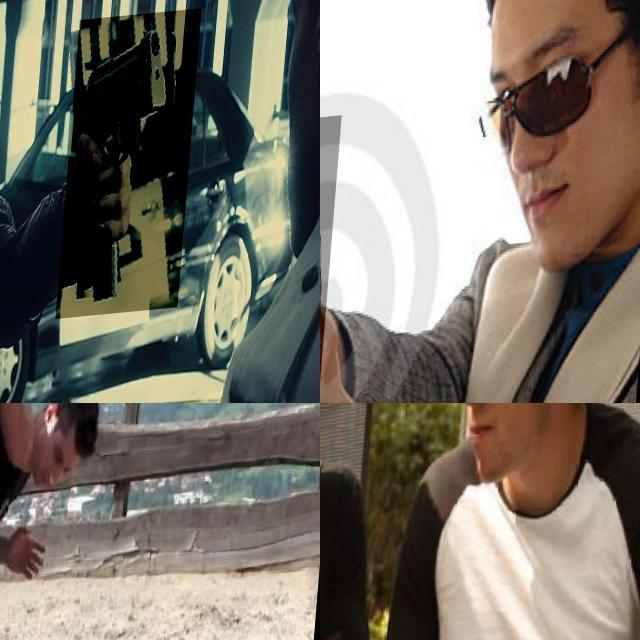-: (320, 464, 368, 640), (0, 414, 21, 529)
gun-knife-thesis - v11 Yolov5 augmented: (62, 18, 203, 326), (320, 121, 429, 403)
